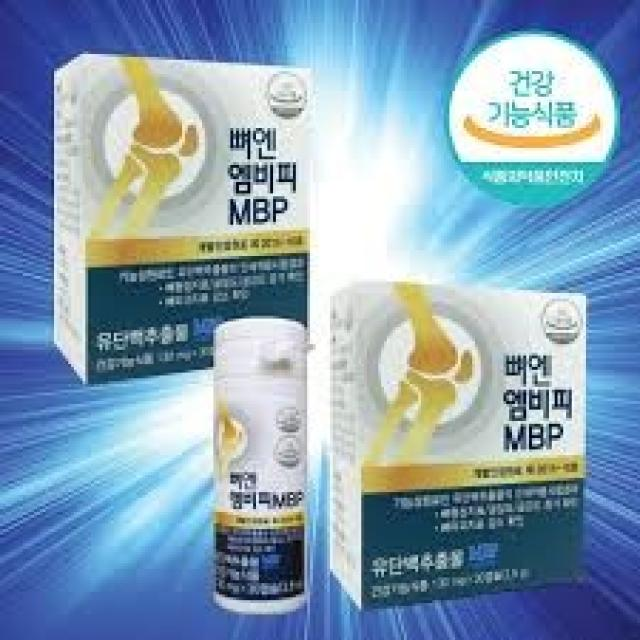HEALTHY: (448, 30, 620, 204)
